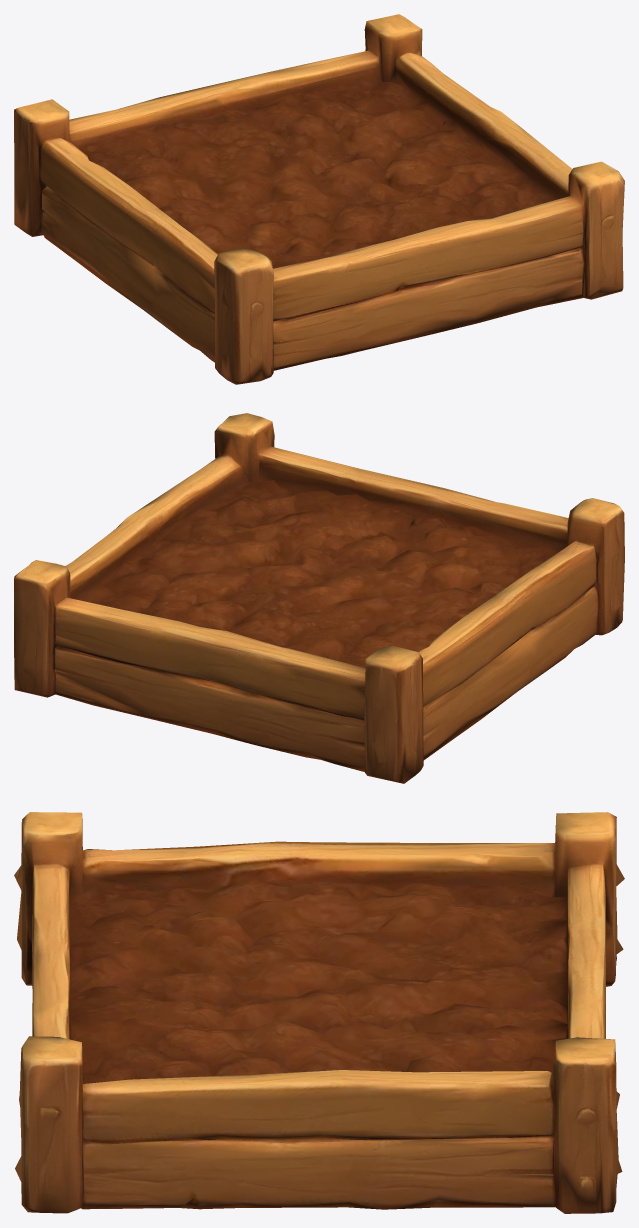
Rendered from parcelle.glb.
3 views of the same model, one above another, from view 1: azimuth 30°, elevation 25°; view 2: azimuth 150°, elevation 25°; view 3: azimuth 270°, elevation 25° (orthographic). The views are drawn at different scales.
Parts seen in each view (by area): view 1: tripo_node_84e5e328-6454-43c2-bd39-ee5be0f0bca9; view 2: tripo_node_84e5e328-6454-43c2-bd39-ee5be0f0bca9; view 3: tripo_node_84e5e328-6454-43c2-bd39-ee5be0f0bca9.
Part boxes in pixels (x1,y1,x2,y2): tripo_node_84e5e328-6454-43c2-bd39-ee5be0f0bca9: (14, 14, 624, 384); tripo_node_84e5e328-6454-43c2-bd39-ee5be0f0bca9: (14, 413, 624, 783); tripo_node_84e5e328-6454-43c2-bd39-ee5be0f0bca9: (14, 812, 624, 1213).
Size of the model in its own units: 0.9952 by 0.2774 by 1.
Materials: 1 (1 with a texture image).
